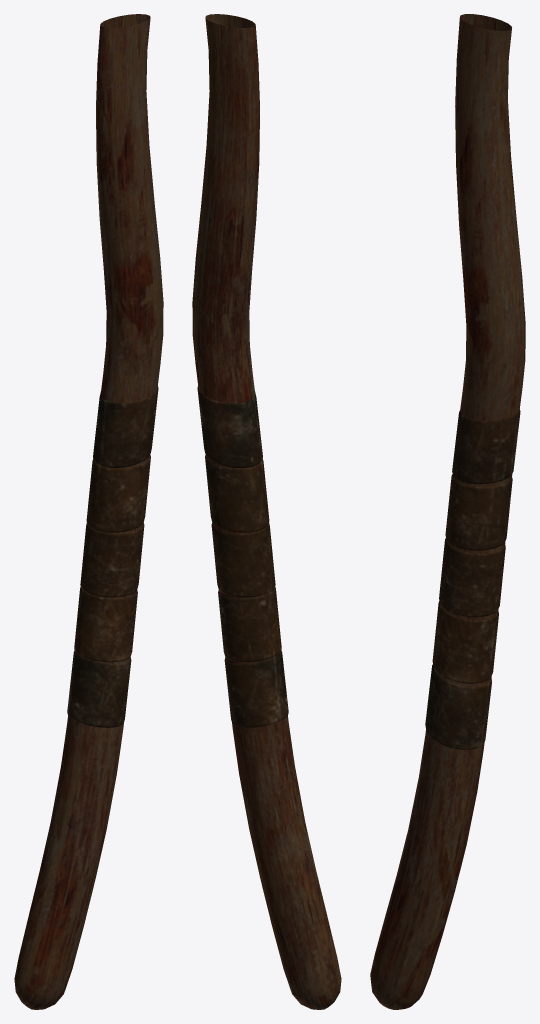
Rendered from wm_mordor_set1_axe_a02_handle.fbx.
3 renders of one model, left to right at view 1: azimuth 30°, elevation 25°; view 2: azimuth 150°, elevation 25°; view 3: azimuth 330°, elevation 25°, orthographic. The views are drawn at different scales.
Visible parts, largest first — view 1: wm_mordor_set1_axe_a02_handle; view 2: wm_mordor_set1_axe_a02_handle; view 3: wm_mordor_set1_axe_a02_handle.
Part boxes in pixels (x1,y1,x2,y2): wm_mordor_set1_axe_a02_handle: [14, 14, 163, 1009]; wm_mordor_set1_axe_a02_handle: [192, 14, 341, 1009]; wm_mordor_set1_axe_a02_handle: [370, 14, 525, 1009].
Bounding box in the file's own units: 0.0896 × 0.0299 × 0.5793.
1 material, 1 textured.
